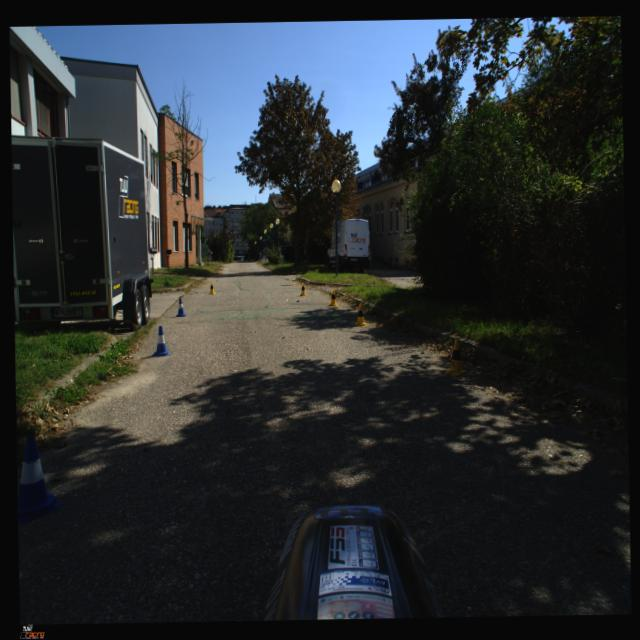blue_cone: (16, 436, 62, 522), (151, 326, 171, 356), (175, 297, 186, 317)
yellow_cone: (444, 337, 466, 376), (354, 304, 366, 326), (327, 290, 337, 306), (298, 282, 307, 296), (208, 282, 215, 294)
